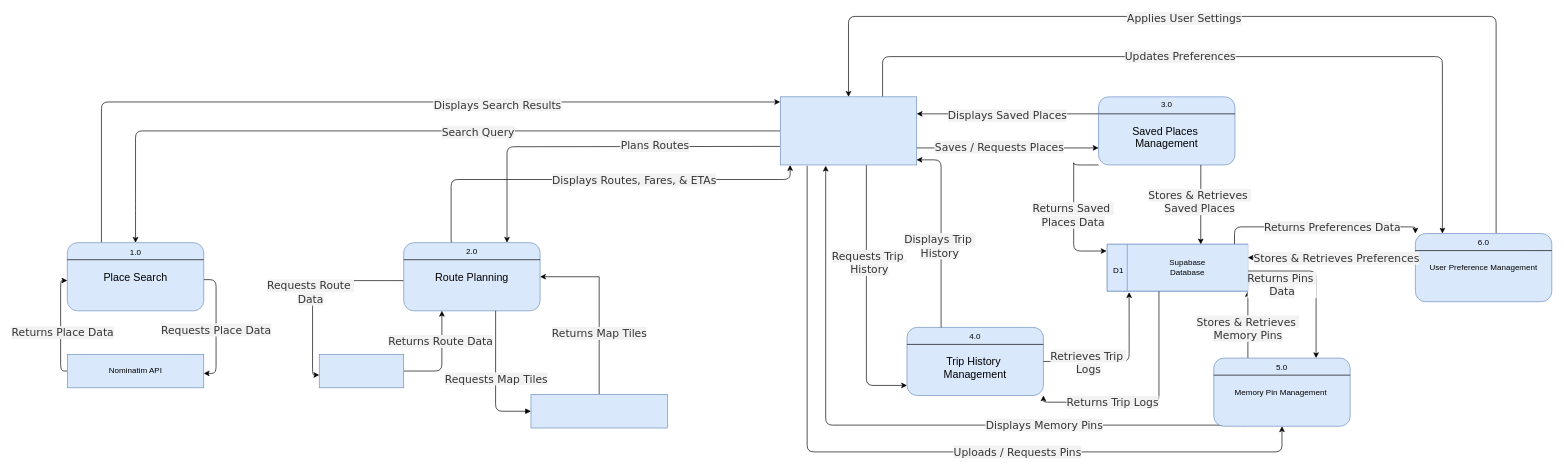
Some shapes in this 1564 by 470 pixel diagram are drawn without their labels. Each missing label, with the centre of its shape:
OpenStreetMap (CARTO): pixel 598 411
OSRM API: pixel 361 371
User: pixel 848 130
